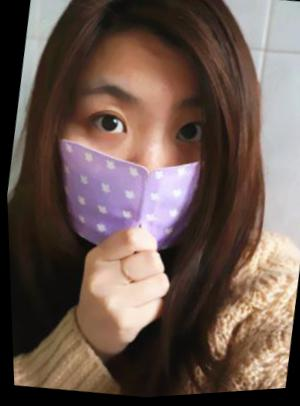WRONG: (43, 69, 233, 276)
